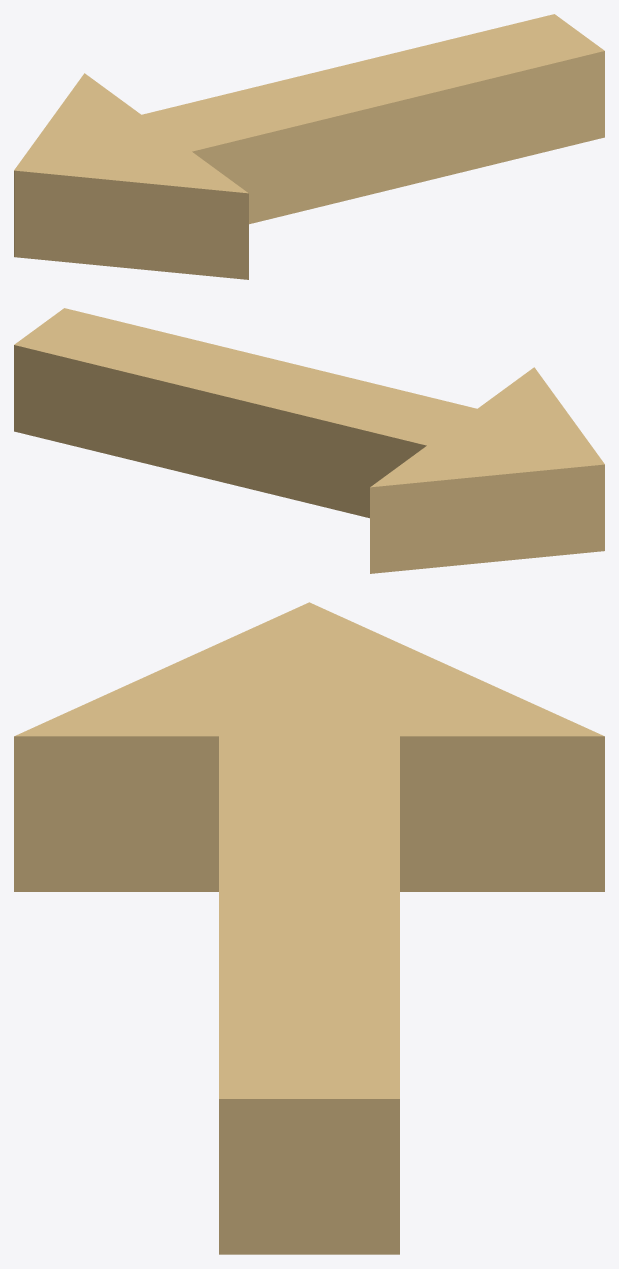
Rendered from Pfeil_G.gltf.
3 renders of one model, top to bottom at view 1: azimuth 30°, elevation 25°; view 2: azimuth 150°, elevation 25°; view 3: azimuth 270°, elevation 25°, orthographic. The views are drawn at different scales.
Parts seen in each view (by area): view 1: Cube; view 2: Cube; view 3: Cube.
Boxes of the visible parts, box(x1,y1,x2,y2) form: Cube: box(14, 14, 604, 279); Cube: box(14, 308, 604, 573); Cube: box(14, 602, 604, 1254).
Size of the model in its own units: 1.11 by 0.163 by 0.5607.
